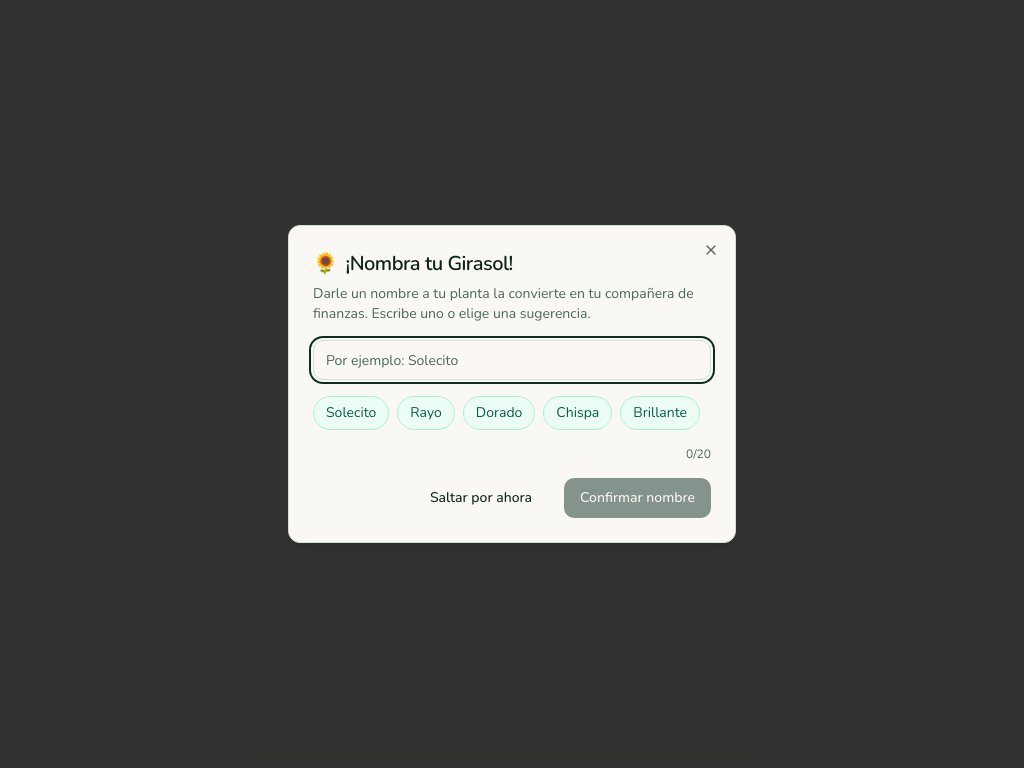
Test case: NameYourPlant — confirm button state › confirm button is enabled when the input has text
The image size is (1024, 768).
Step 1. Type "Sol" into the field → coordinates (512, 360), box [313,340,711,380]
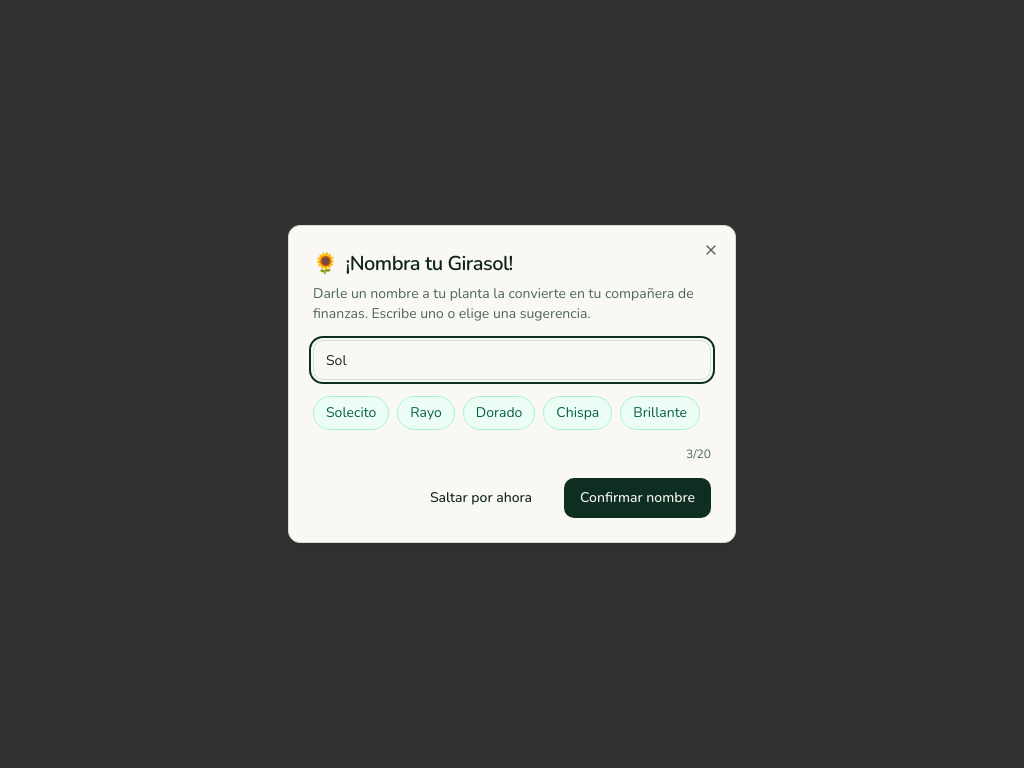
Result: the button "Confirmar nombre" is enabled at [564,478,711,518]
